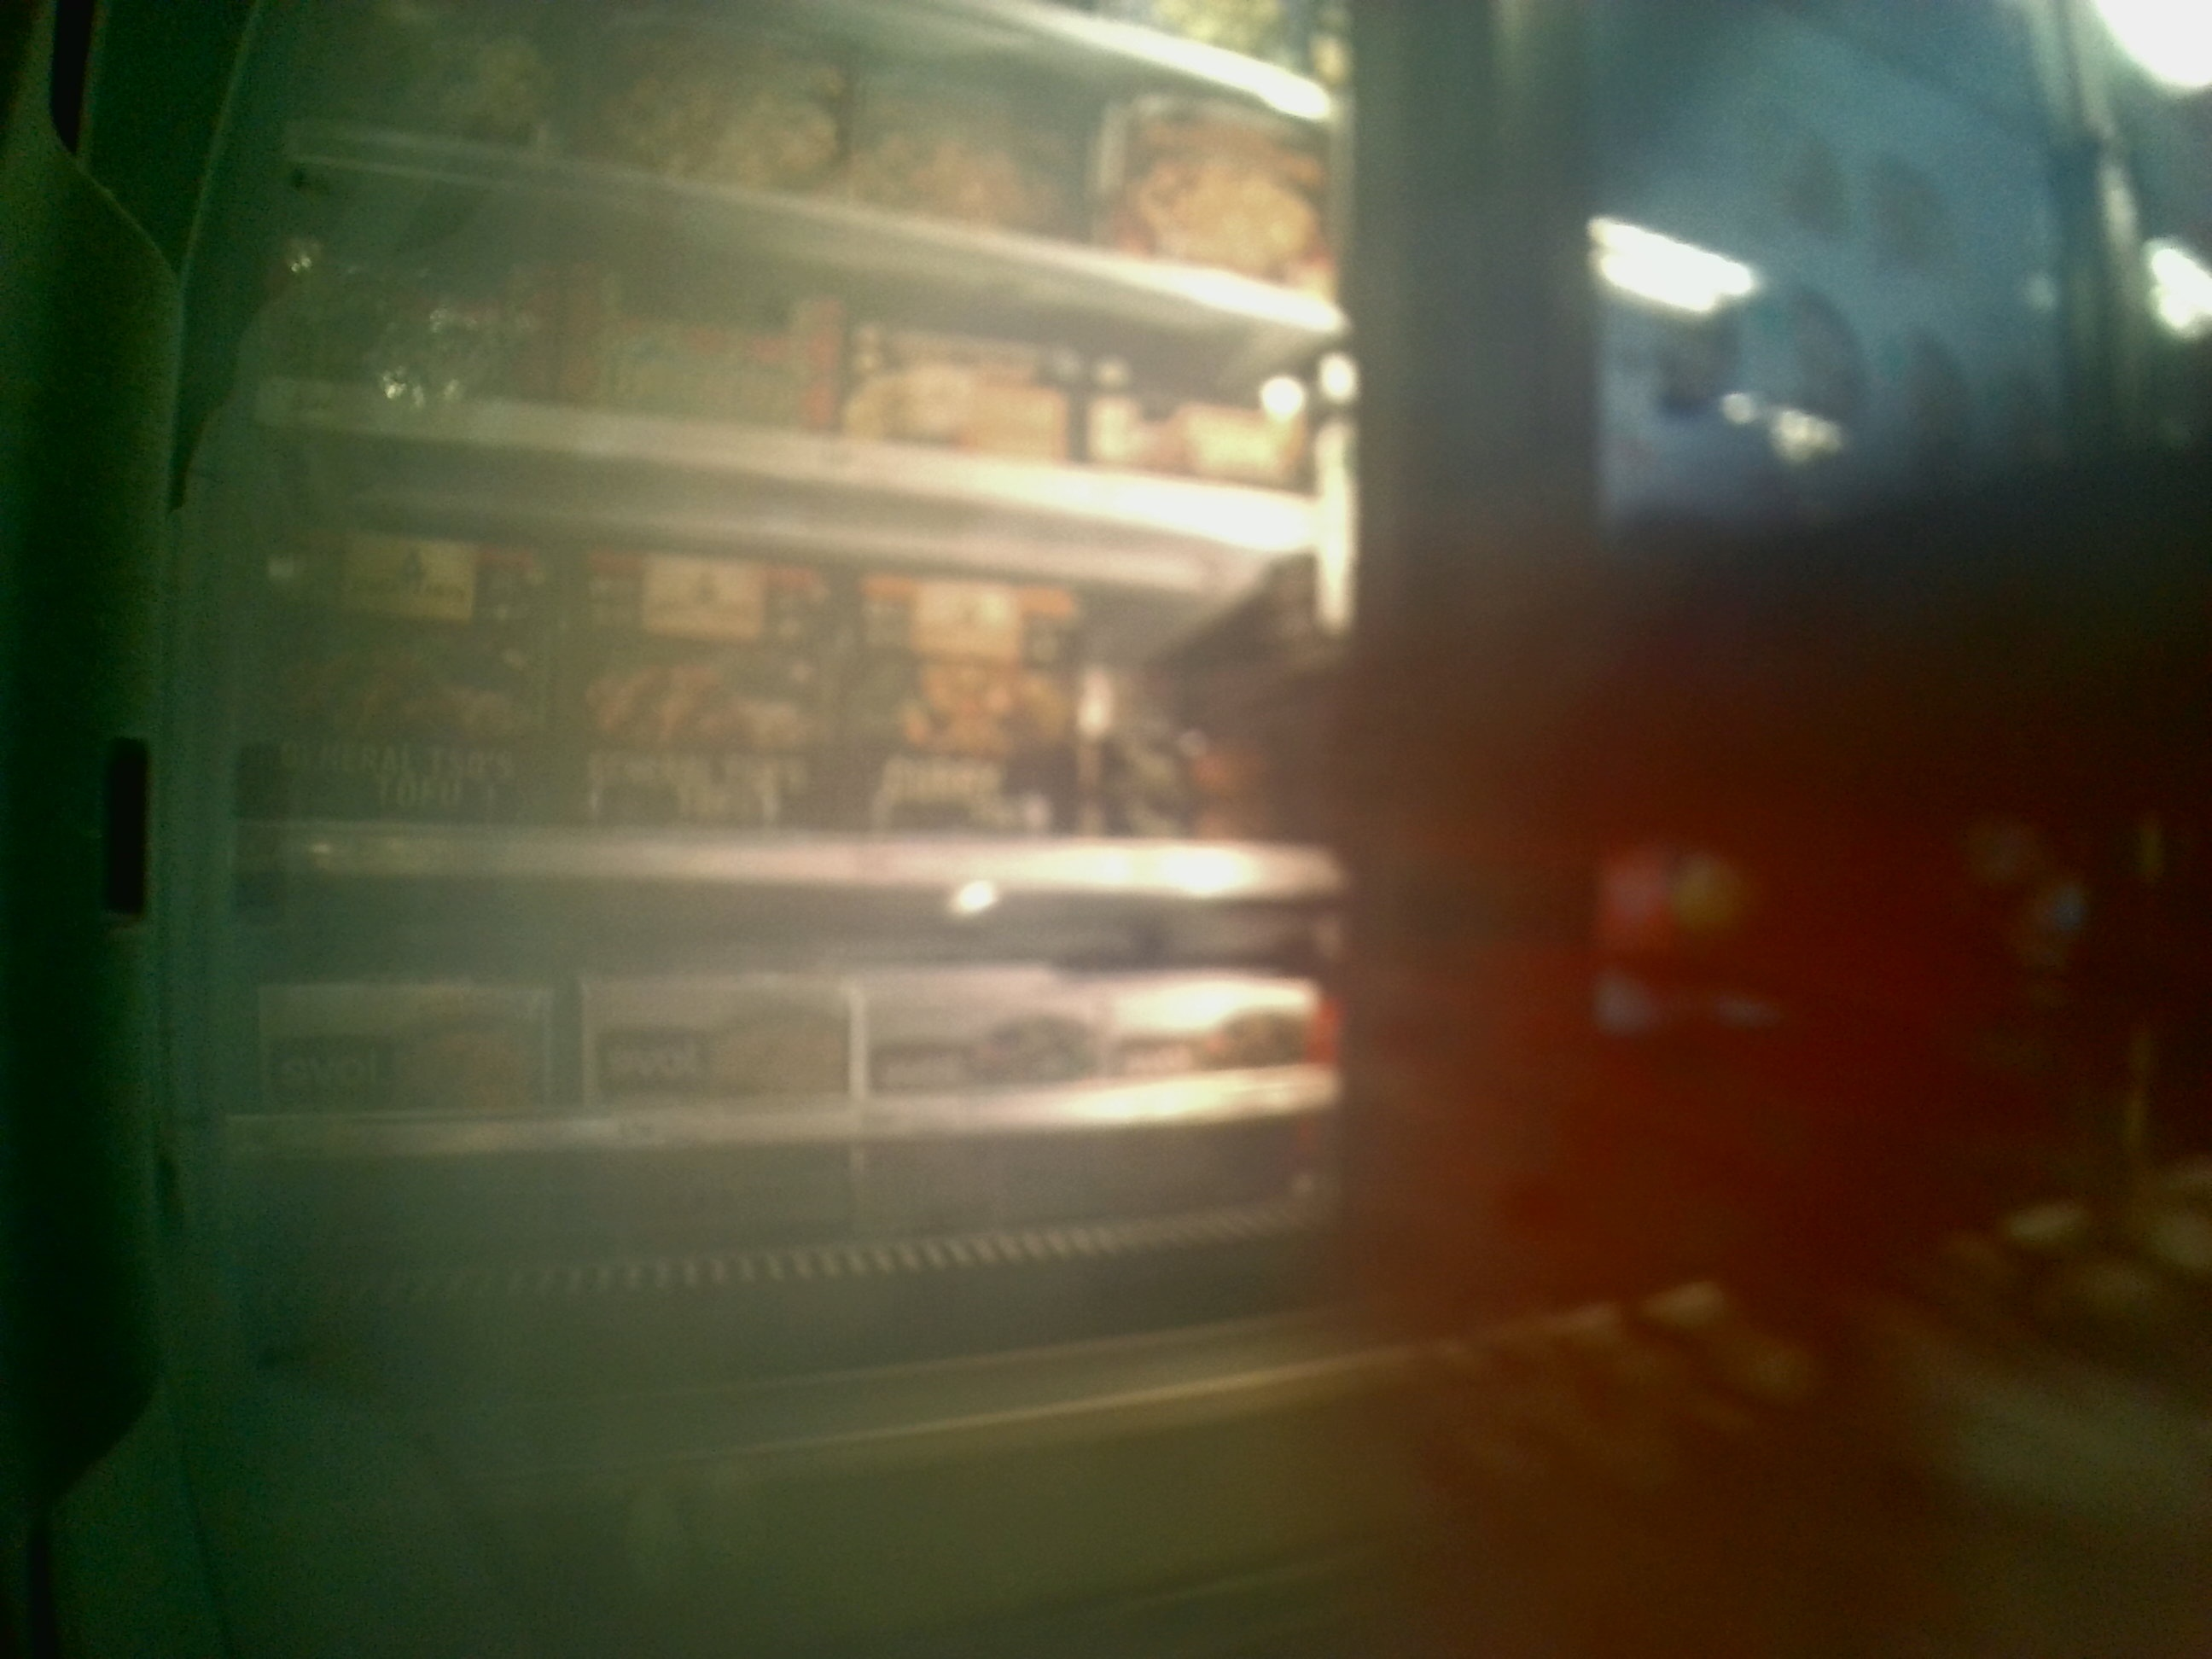frozen-food-shelf: (239, 502, 1348, 899), (223, 892, 1362, 1175)
